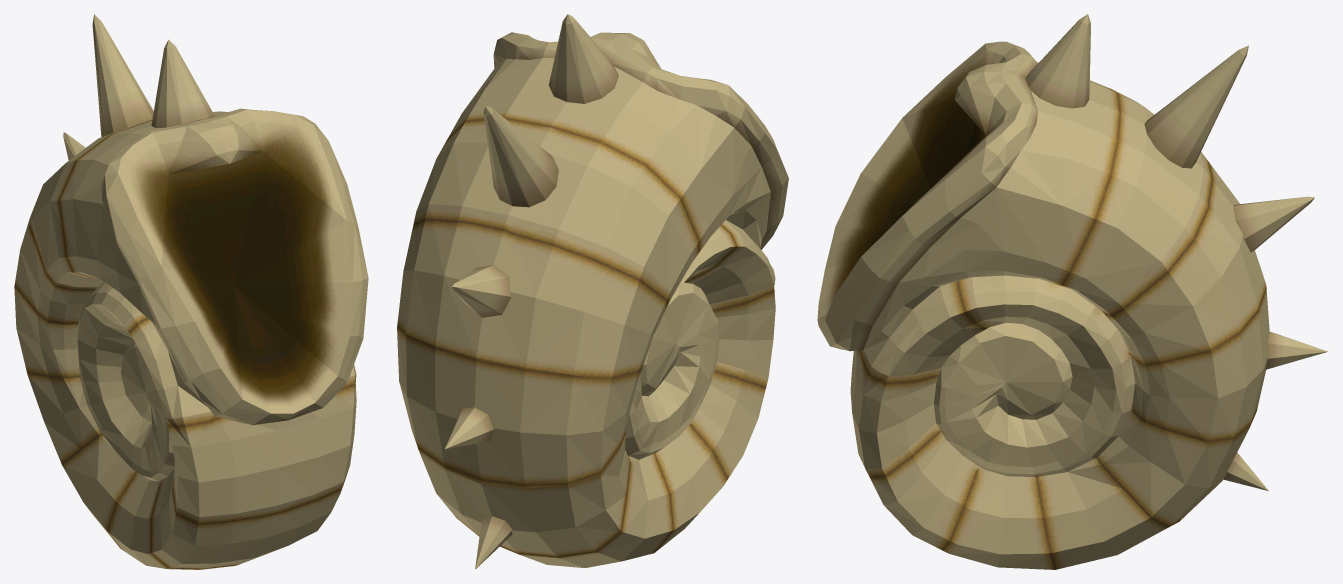
File: BR_Omastar.obj
3 views of the same model, side by side, from view 1: azimuth 30°, elevation 25°; view 2: azimuth 150°, elevation 25°; view 3: azimuth 270°, elevation 25° (orthographic). The views are drawn at different scales.
Visible parts, largest first — view 1: omstar; view 2: omstar; view 3: omstar.
Part boxes in pixels (left/top/right/bottom): omstar: left=14, top=14, right=368, bottom=569; omstar: left=397, top=14, right=788, bottom=569; omstar: left=817, top=14, right=1327, bottom=569.
Bounding box in the file's own units: 5.85 × 12.14 × 10.4.
